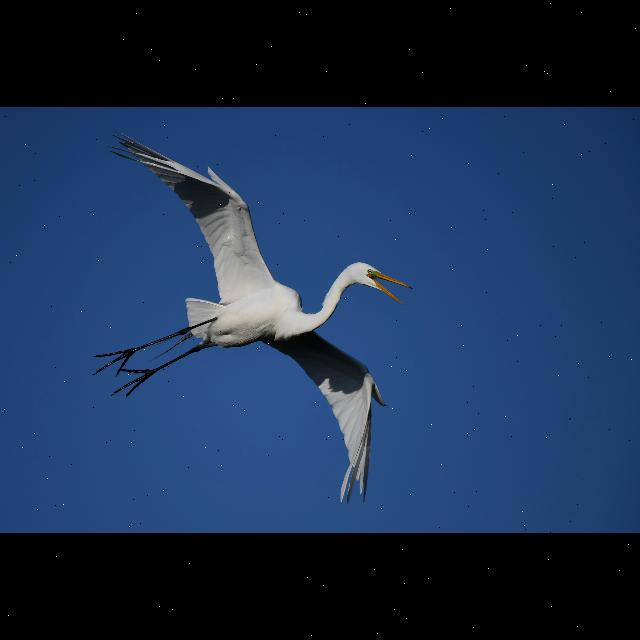egret: (90, 131, 417, 511)
